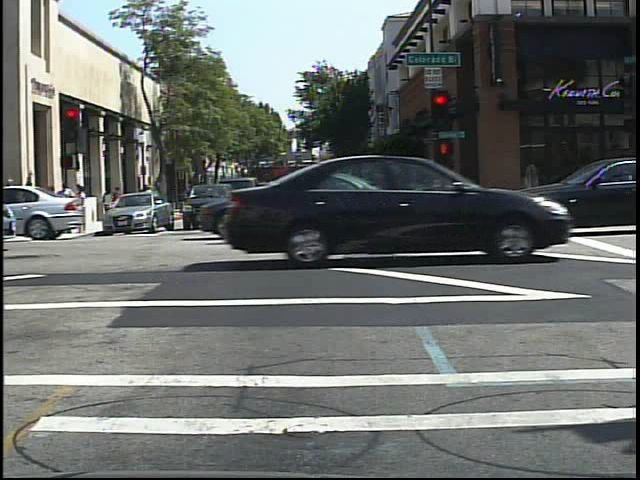person: (141, 181, 156, 214), (137, 181, 152, 212)
